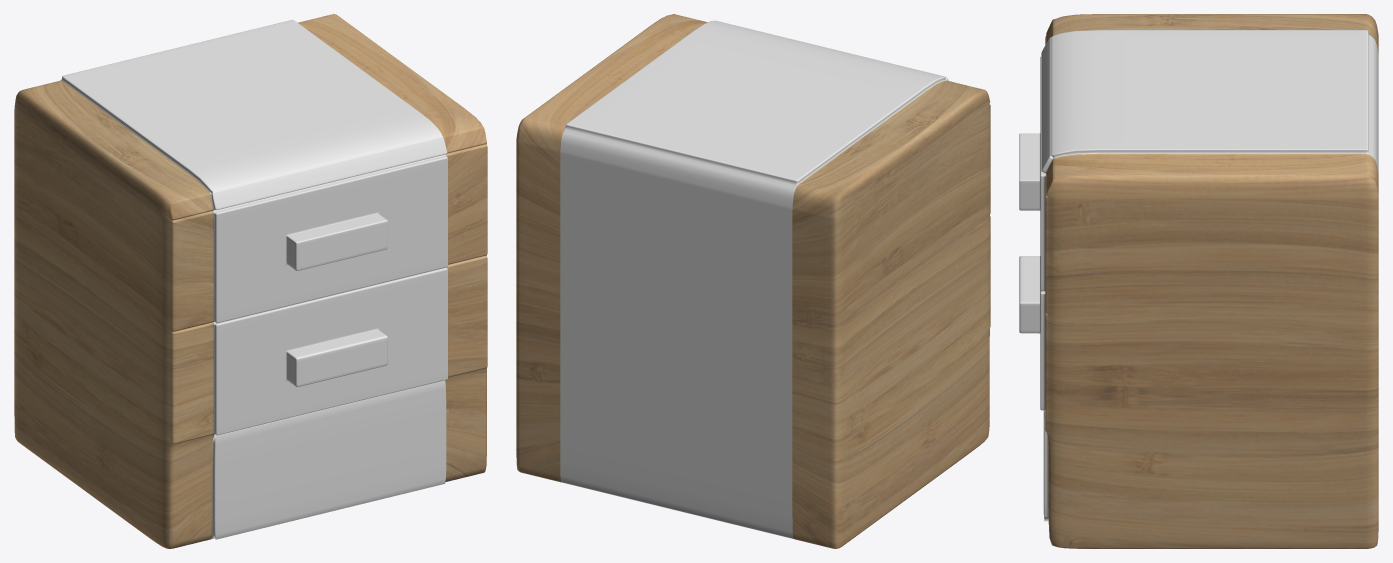
The model's file is SideBedTable.fbx.
3 views of the same model, side by side, from view 1: azimuth 30°, elevation 25°; view 2: azimuth 150°, elevation 25°; view 3: azimuth 270°, elevation 25° (orthographic). The views are drawn at different scales.
Parts seen in each view (by area): view 1: pCube424; view 2: pCube424; view 3: pCube424.
Part boxes in pixels (left/top/right/bottom): pCube424: left=14, top=14, right=487, bottom=548; pCube424: left=516, top=14, right=990, bottom=548; pCube424: left=1019, top=14, right=1378, bottom=548.
Size of the model in its own units: 3.75 by 3.95 by 3.41.
2 materials, 1 textured.
